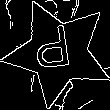P_S: (36, 25, 80, 80)
